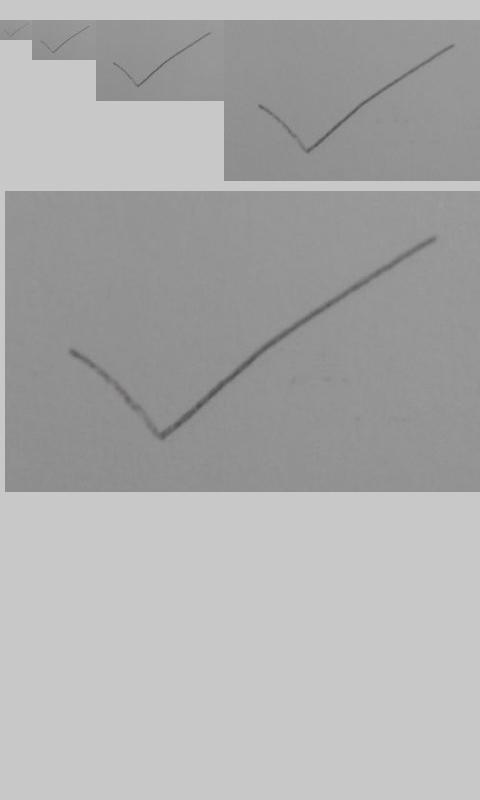check_box: (68, 237, 437, 442), (258, 45, 454, 154), (113, 32, 210, 88), (40, 25, 89, 54), (4, 23, 29, 37)
